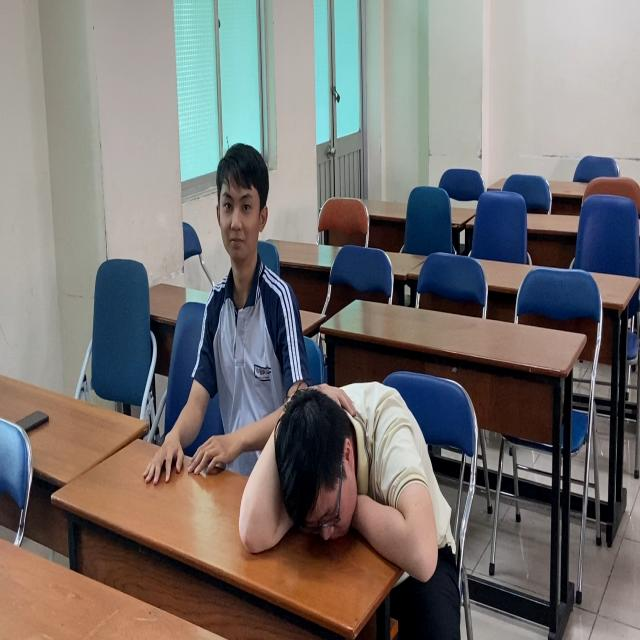sleep: (237, 371, 464, 591)
